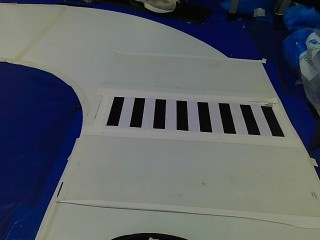crosswalk: (95, 92, 286, 142)
